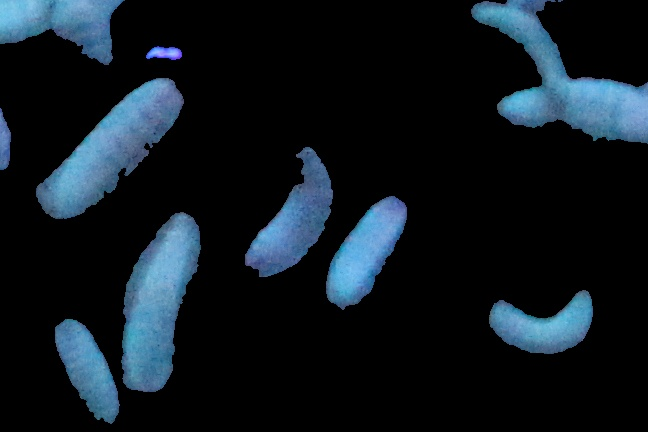larvae: (37, 90, 183, 217), (117, 212, 200, 395), (241, 135, 338, 279), (325, 191, 417, 311), (469, 1, 574, 103), (486, 279, 600, 367), (51, 315, 120, 425), (491, 81, 636, 132), (45, 1, 129, 69)
